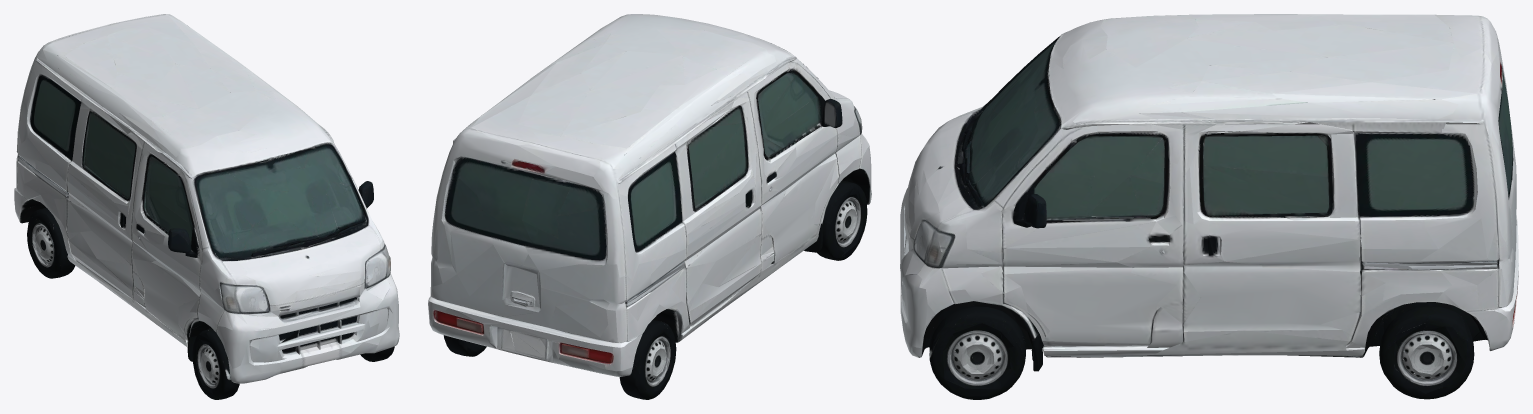
The model's file is amjad.glb.
3 renders of one model, left to right at view 1: azimuth 30°, elevation 25°; view 2: azimuth 150°, elevation 25°; view 3: azimuth 270°, elevation 25°, orthographic. The views are drawn at different scales.
Parts seen in each view (by area): view 1: body, wheel_fr, wheel_rr; view 2: body, wheel_fr, wheel_rr; view 3: body, wheel_fl, wheel_rl.
Boxes of the visible parts, x1,y1,x2,y2 form: body: [14, 14, 399, 399]; wheel_fr: [193, 348, 221, 399]; wheel_rr: [28, 227, 55, 278]; body: [428, 14, 871, 398]; wheel_fr: [828, 202, 865, 260]; wheel_rr: [630, 346, 674, 399]; body: [900, 14, 1518, 398]; wheel_fl: [943, 334, 1015, 399]; wheel_rl: [1392, 338, 1464, 399].
Size of the model in its own units: 0.9786 by 0.9936 by 1.89.
1 material, 1 textured.
